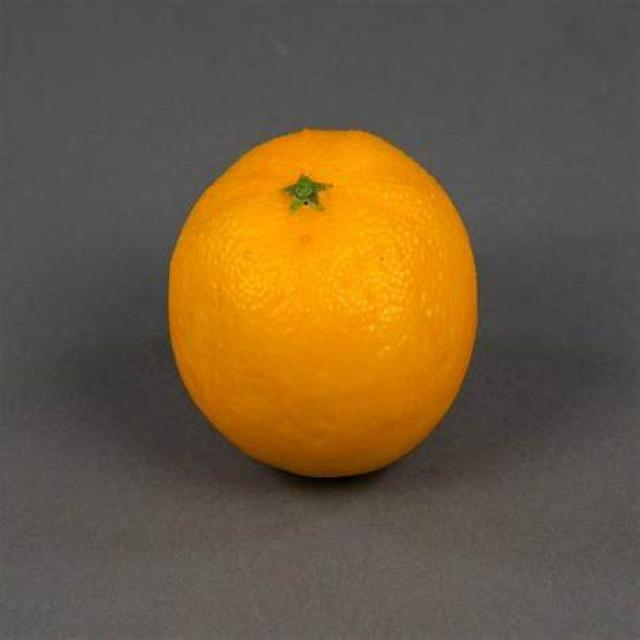Orange: (166, 122, 482, 484)
